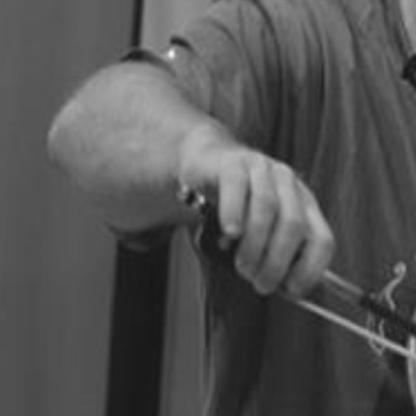good: (208, 137, 342, 316)
